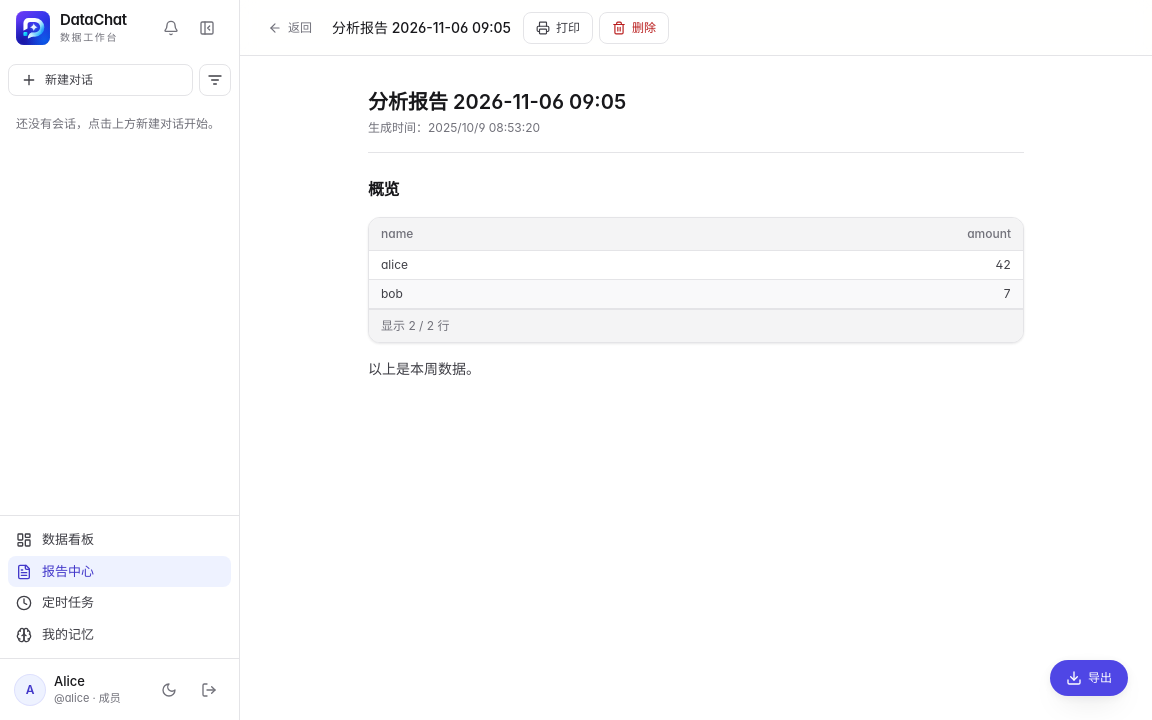
Test: ReportPage › opens floating export menu and downloads MD, HTML, and Word files
The width and height of the screenshot is (1152, 720).
Later steps or results of the test are not shown.
Check: the heading "分析报告 2026-11-06 09:05" is shown, box [368,90,626,114]
Click the button "导出": {"x": 1089, "y": 678} [1050,660,1128,696]
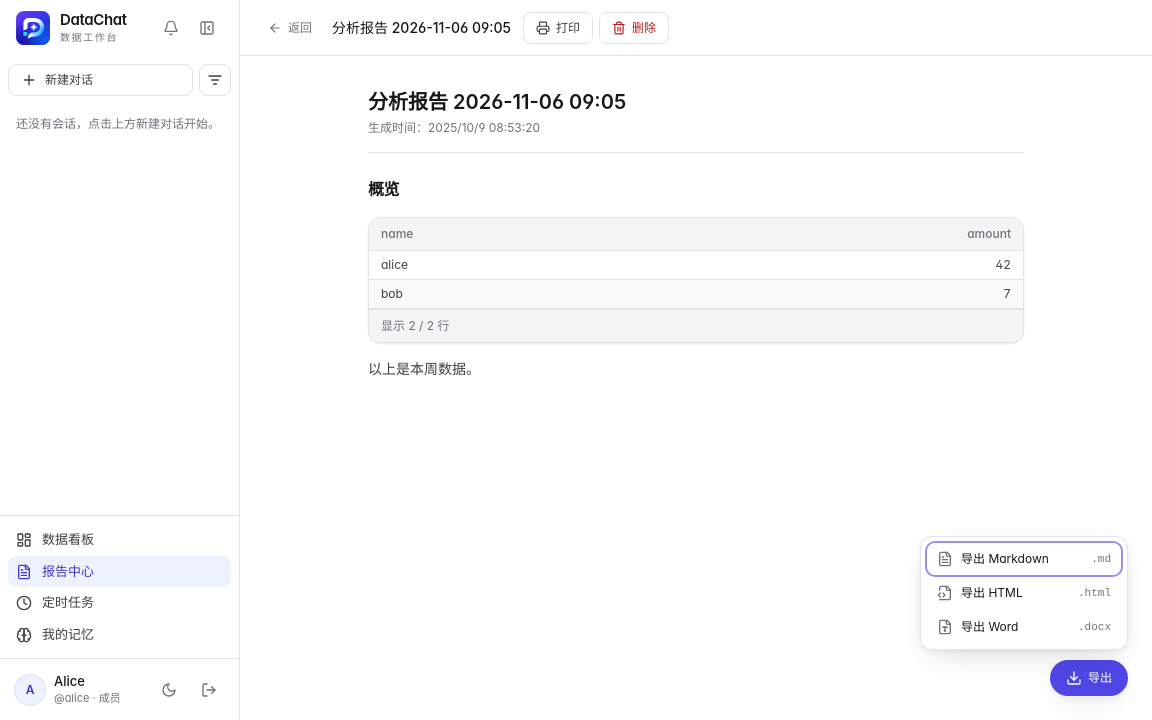
Check: the button "导出 Markdown .md" is shown, box [927,543,1121,575]
Check: the button "导出 HTML .html" is shown, box [927,577,1121,609]
Check: the button "导出 Word .docx" is shown, box [927,611,1121,643]
